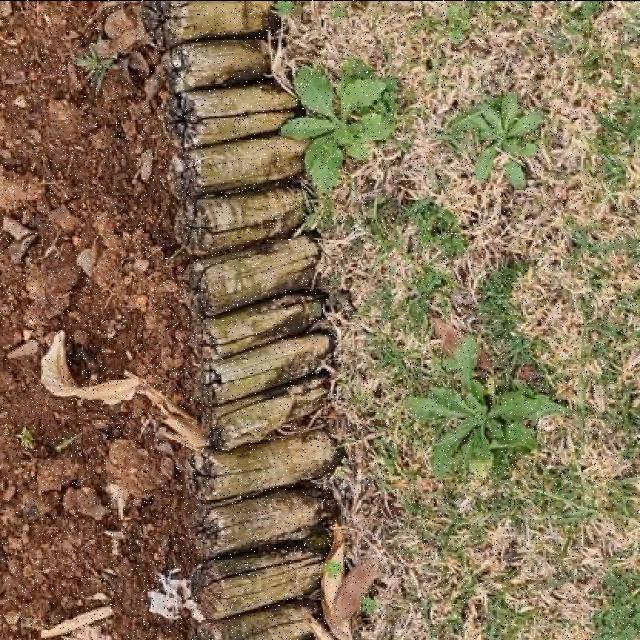weed: (408, 337, 567, 475), (282, 58, 395, 189), (459, 92, 544, 185)
